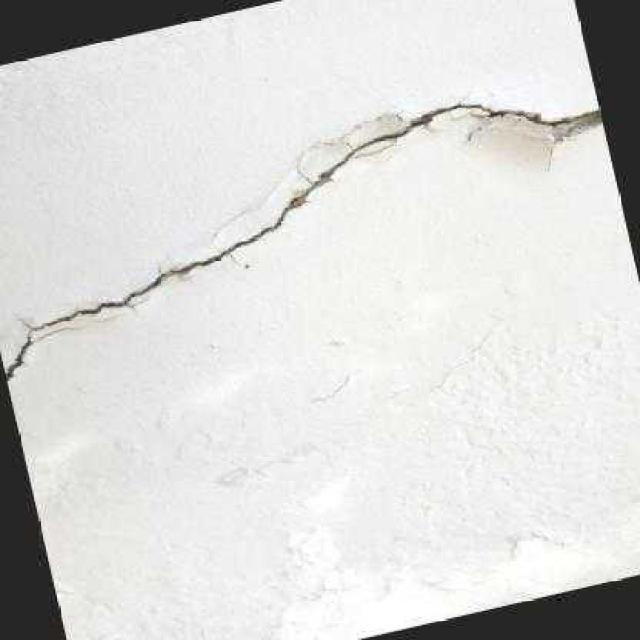D00: (4, 102, 604, 384)
